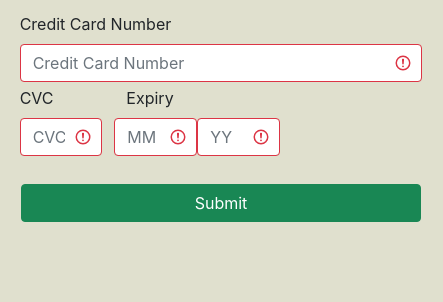
Scenario: card number validation
The image size is (443, 302).
Type "0" into the field labelled "Credit Card Number" at [221, 63], box [20,44,422,82]
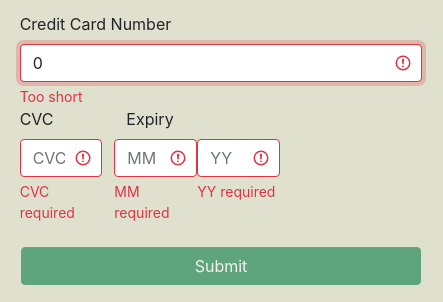
Check: the text "Too short" is shown, box [20,88,82,105]
Type "12345678912" into the field labelled "Credit Card Number" at [221, 63], box [20,44,422,82]
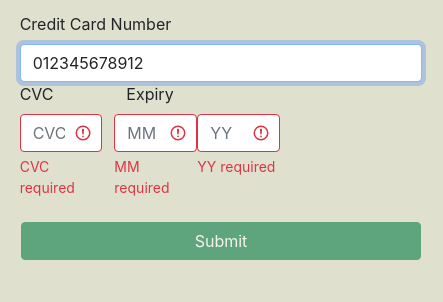
Check: the text "Too short" is gone
